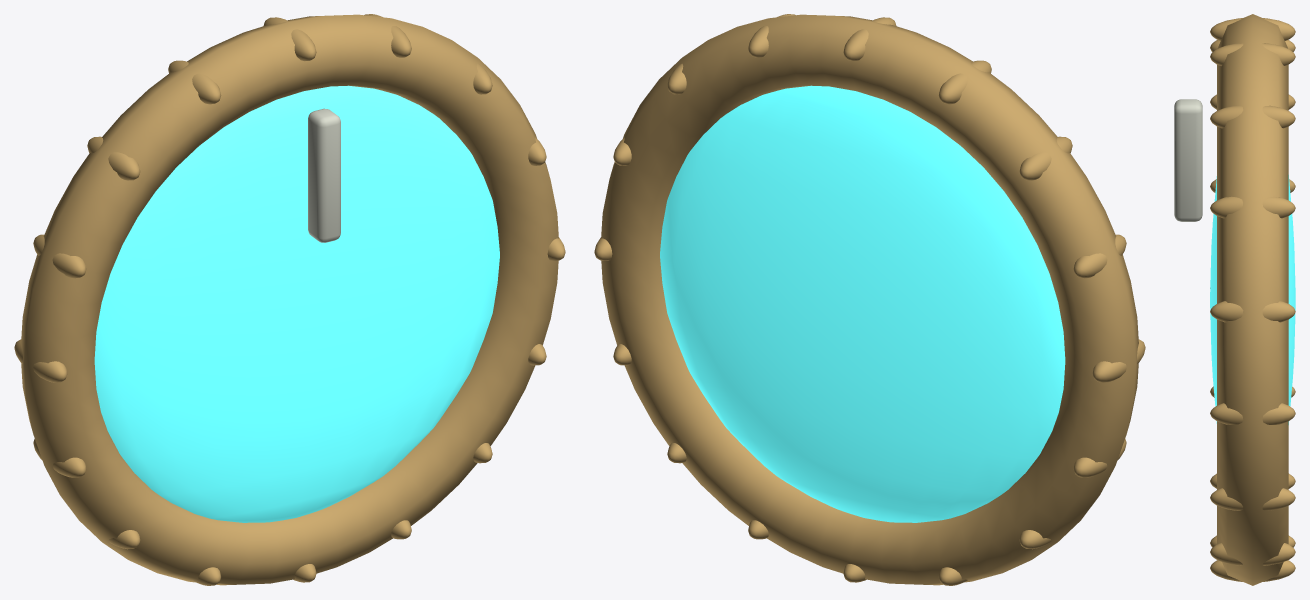
File: lens.glb
The picture shows the model from 3 angles, left to right: view 1: azimuth 30°, elevation 25°; view 2: azimuth 150°, elevation 25°; view 3: azimuth 270°, elevation 25°; orthographic projection. The views are drawn at different scales.
Parts seen in each view (by area): view 1: Convex milky aqua glass, Independent brass ring, White direction pointer, Fine grip tooth.014, Fine grip tooth.013, Fine grip tooth.015, Fine grip tooth.012, Fine grip tooth; view 2: Convex milky aqua glass, Independent brass ring, Fine grip tooth.014, Fine grip tooth.013, Fine grip tooth.015, Fine grip tooth.012, Fine grip tooth; view 3: Independent brass ring, White direction pointer, Convex milky aqua glass, Fine grip tooth.003, Fine grip tooth.002, Fine grip tooth.004, Fine grip tooth.001, Fine grip tooth.005, Fine grip tooth, Fine grip tooth.006, Fine grip tooth.015, Fine grip tooth.007.
Part boxes in pixels (x1=…): Convex milky aqua glass: x1=94, y1=85, x2=499, y2=522; Independent brass ring: x1=21, y1=14, x2=558, y2=585; White direction pointer: x1=308, y1=108, x2=340, y2=242; Fine grip tooth.014: x1=87, y1=136, x2=140, y2=180; Fine grip tooth.013: x1=33, y1=234, x2=86, y2=278; Fine grip tooth.015: x1=168, y1=60, x2=221, y2=104; Fine grip tooth.012: x1=14, y1=339, x2=67, y2=382; Fine grip tooth: x1=263, y1=17, x2=316, y2=61; Convex milky aqua glass: x1=660, y1=85, x2=1065, y2=522; Independent brass ring: x1=601, y1=14, x2=1138, y2=585; Fine grip tooth.014: x1=1019, y1=136, x2=1072, y2=180; Fine grip tooth.013: x1=1073, y1=234, x2=1126, y2=278; Fine grip tooth.015: x1=938, y1=60, x2=991, y2=104; Fine grip tooth.012: x1=1092, y1=339, x2=1145, y2=382; Fine grip tooth: x1=843, y1=17, x2=896, y2=61; Independent brass ring: x1=1217, y1=14, x2=1288, y2=585; White direction pointer: x1=1174, y1=99, x2=1202, y2=221; Convex milky aqua glass: x1=1210, y1=175, x2=1295, y2=424; Fine grip tooth.003: x1=1210, y1=301, x2=1295, y2=322; Fine grip tooth.002: x1=1210, y1=196, x2=1295, y2=218; Fine grip tooth.004: x1=1210, y1=403, x2=1295, y2=424; Fine grip tooth.001: x1=1210, y1=105, x2=1295, y2=128; Fine grip tooth.005: x1=1210, y1=488, x2=1295, y2=510; Fine grip tooth: x1=1210, y1=43, x2=1295, y2=65; Fine grip tooth.006: x1=1210, y1=543, x2=1295, y2=565; Fine grip tooth.015: x1=1210, y1=18, x2=1295, y2=40; Fine grip tooth.007: x1=1210, y1=560, x2=1295, y2=581.
Size of the model in its own units: 0.16 by 0.16 by 0.034.
